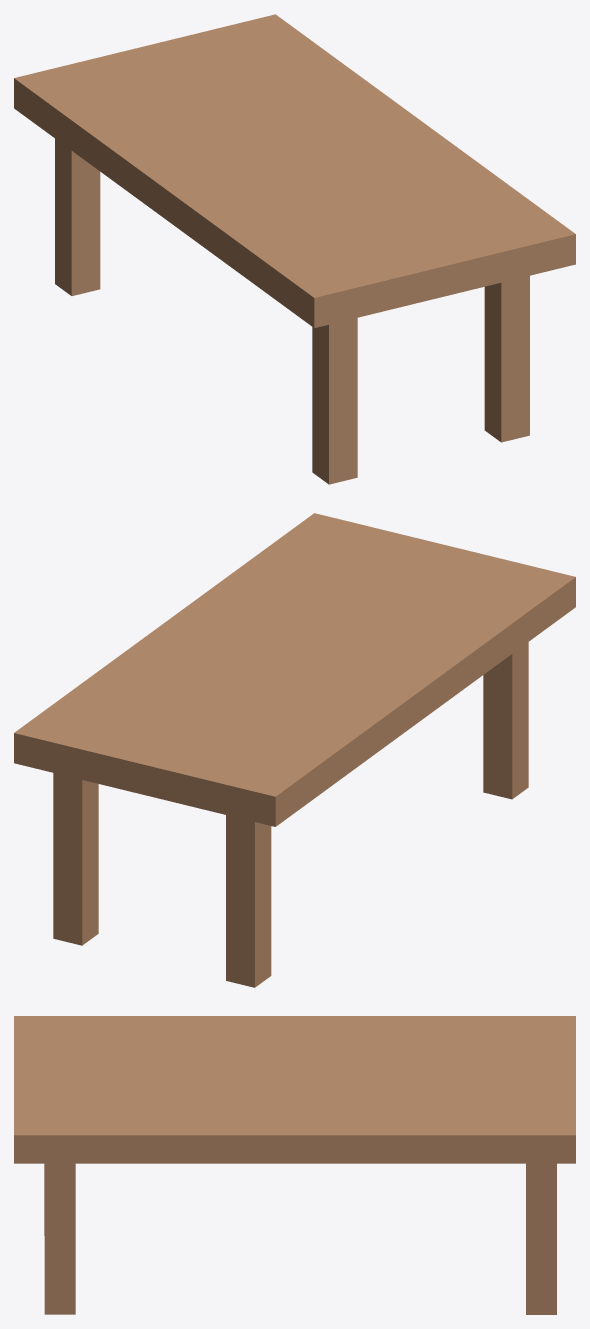
File: table.fbx
3 views of the same model, one above another, from view 1: azimuth 30°, elevation 25°; view 2: azimuth 150°, elevation 25°; view 3: azimuth 270°, elevation 25° (orthographic). The views are drawn at different scales.
Visible parts, largest first — view 1: Cube, Cube.003, Cube.004, Cube.001; view 2: Cube, Cube.002, Cube.001, Cube.003; view 3: Cube, Cube.004, Cube.002.
Boxes of the visible parts, x1,y1,x2,y2 form: Cube: [14, 14, 575, 328]; Cube.003: [312, 318, 357, 484]; Cube.004: [484, 275, 529, 442]; Cube.001: [55, 138, 100, 295]; Cube: [14, 513, 575, 826]; Cube.002: [53, 773, 98, 945]; Cube.001: [226, 815, 271, 987]; Cube.003: [483, 642, 528, 799]; Cube: [14, 1016, 575, 1163]; Cube.004: [44, 1163, 75, 1314]; Cube.002: [526, 1163, 556, 1314].
Bounding box in the file's own units: 353 × 266 × 702.
